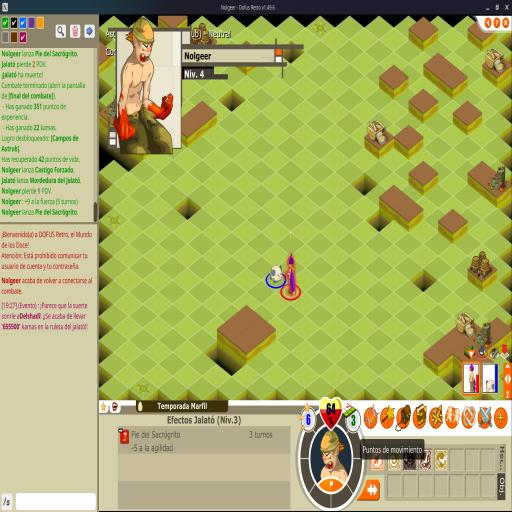Enemigos: (269, 265, 284, 283)
Personaje: (284, 253, 298, 295)
